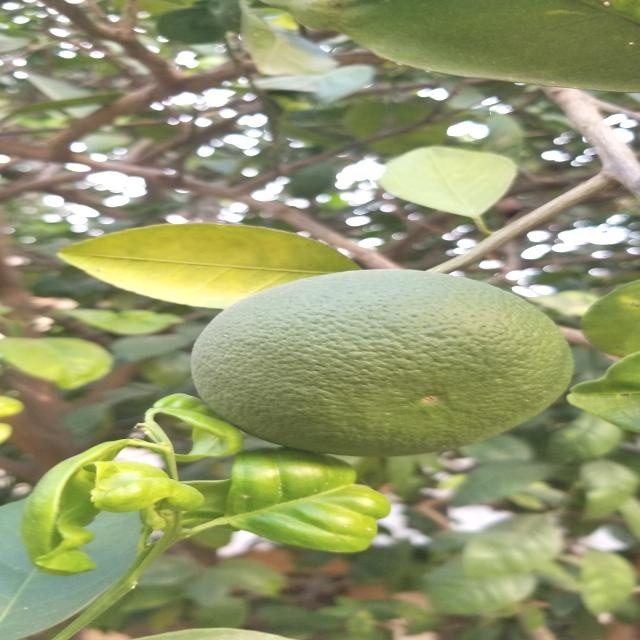agrume: (180, 262, 588, 452)
